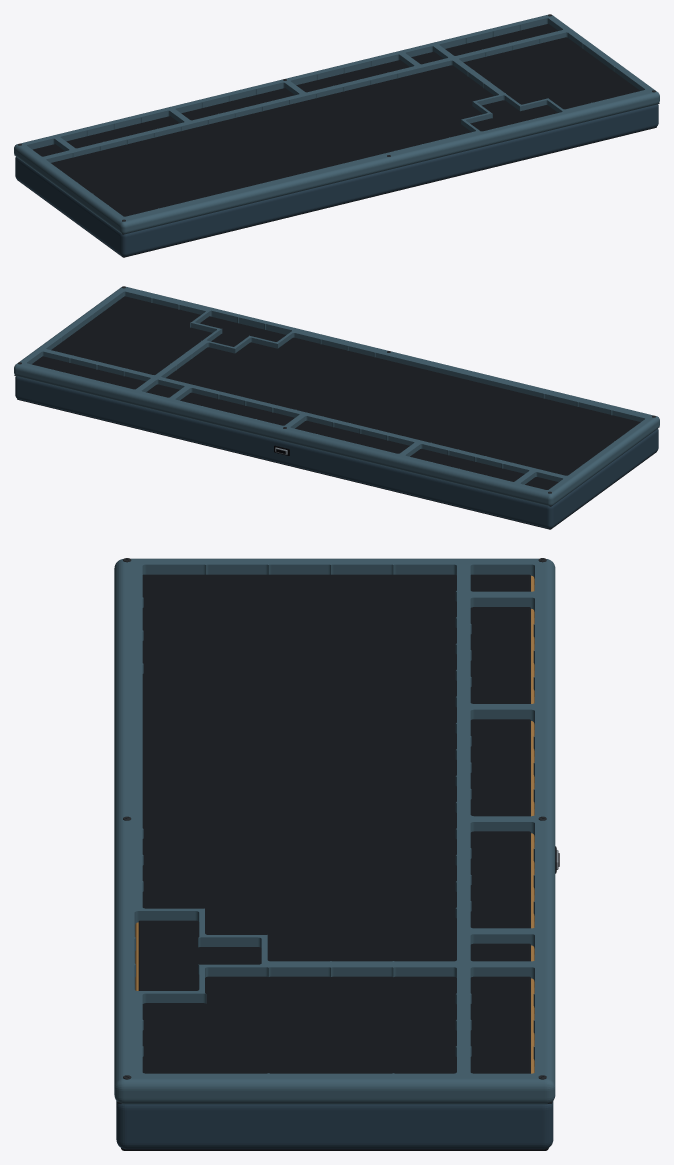
The model's file is ansi-99.glb.
The picture shows the model from 3 angles, top to bottom: view 1: azimuth 30°, elevation 25°; view 2: azimuth 150°, elevation 25°; view 3: azimuth 270°, elevation 25°; orthographic projection. The views are drawn at different scales.
Visible parts, largest first — view 1: KeybedShadow, TopFrame, CaseBody, BottomEdge; view 2: KeybedShadow, TopFrame, CaseBody, BottomEdge; view 3: KeybedShadow, TopFrame, CaseBody, Plate, BottomEdge.
Part boxes in pixels (x1,y1,x2,y2): KeybedShadow: (33,23,639,216); TopFrame: (14,15,659,234); CaseBody: (15,104,658,256); BottomEdge: (17,127,656,257); KeybedShadow: (32,296,640,489); TopFrame: (14,287,659,506); CaseBody: (15,376,658,528); BottomEdge: (17,399,656,529); KeybedShadow: (138,574,530,1073); TopFrame: (114,558,555,1104); CaseBody: (116,585,553,1149); Plate: (135,575,534,1073); BottomEdge: (121,1148,548,1150).
Size of the model in its own units: 0.3797 by 0.0263 by 0.1357.
